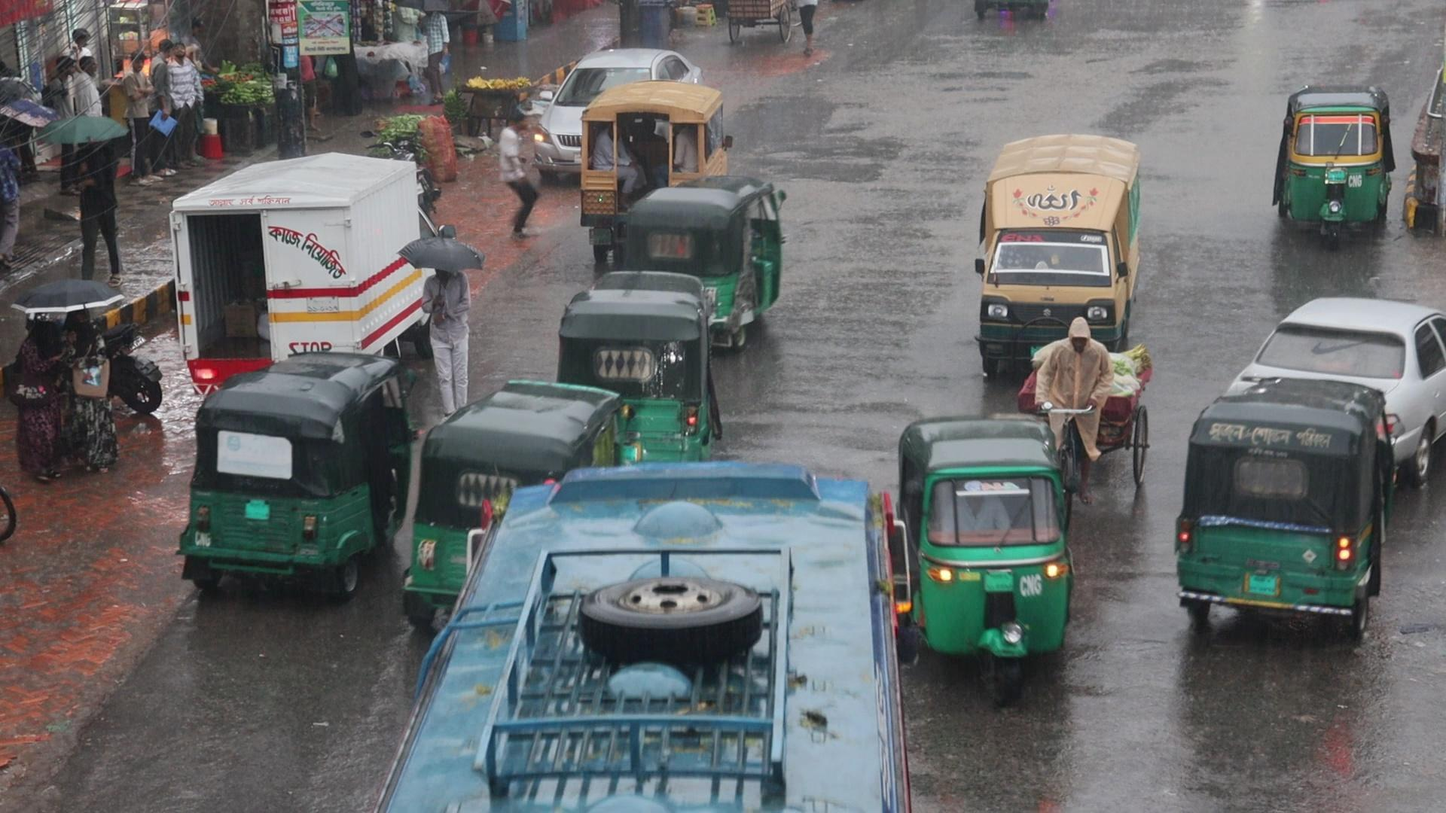Bus: (381, 463, 911, 813)
Truck: (580, 78, 733, 184)
